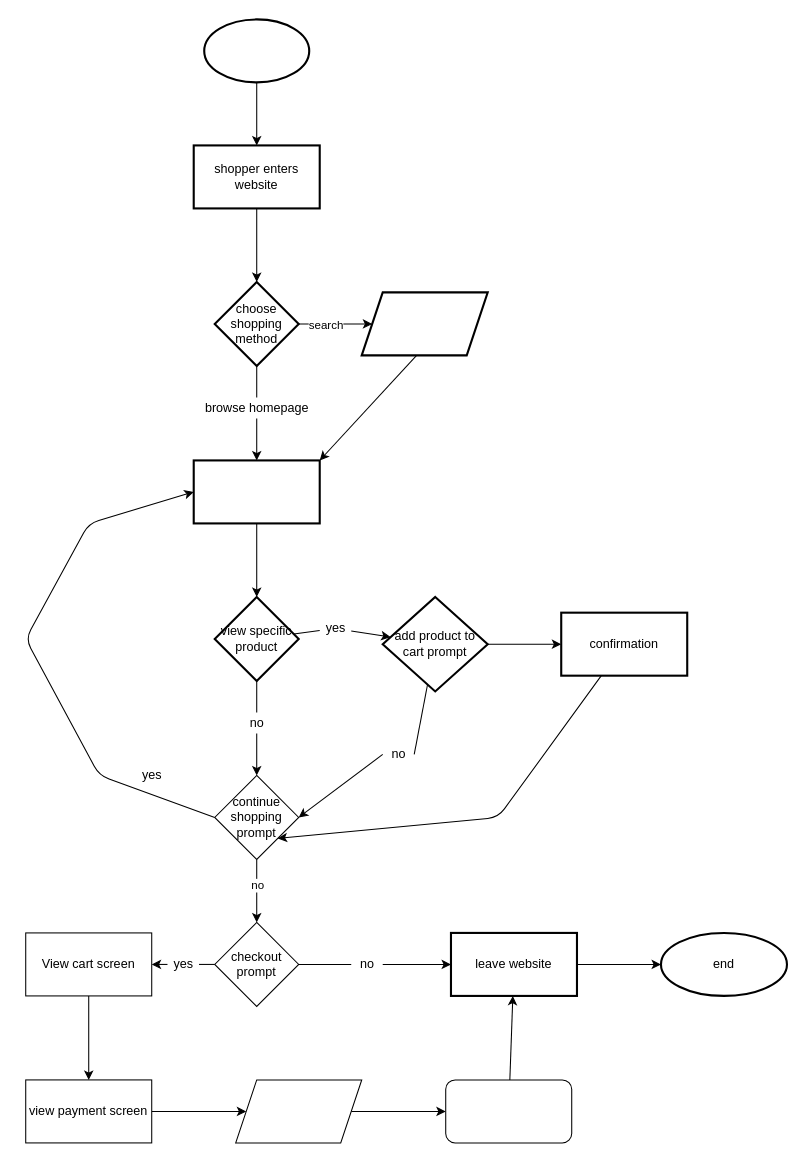
This 806x1161 diagram has some shape labels left out. The centre of each missing label's shape, as x and y in pixels:
"begin looking at products" belongs at [256,491].
"enter search parameters" belongs at [424,323].
"input of payment information" belongs at [298,1111].
"order confirmation screen & email" belongs at [508,1111].
"start" belongs at [256,50].
